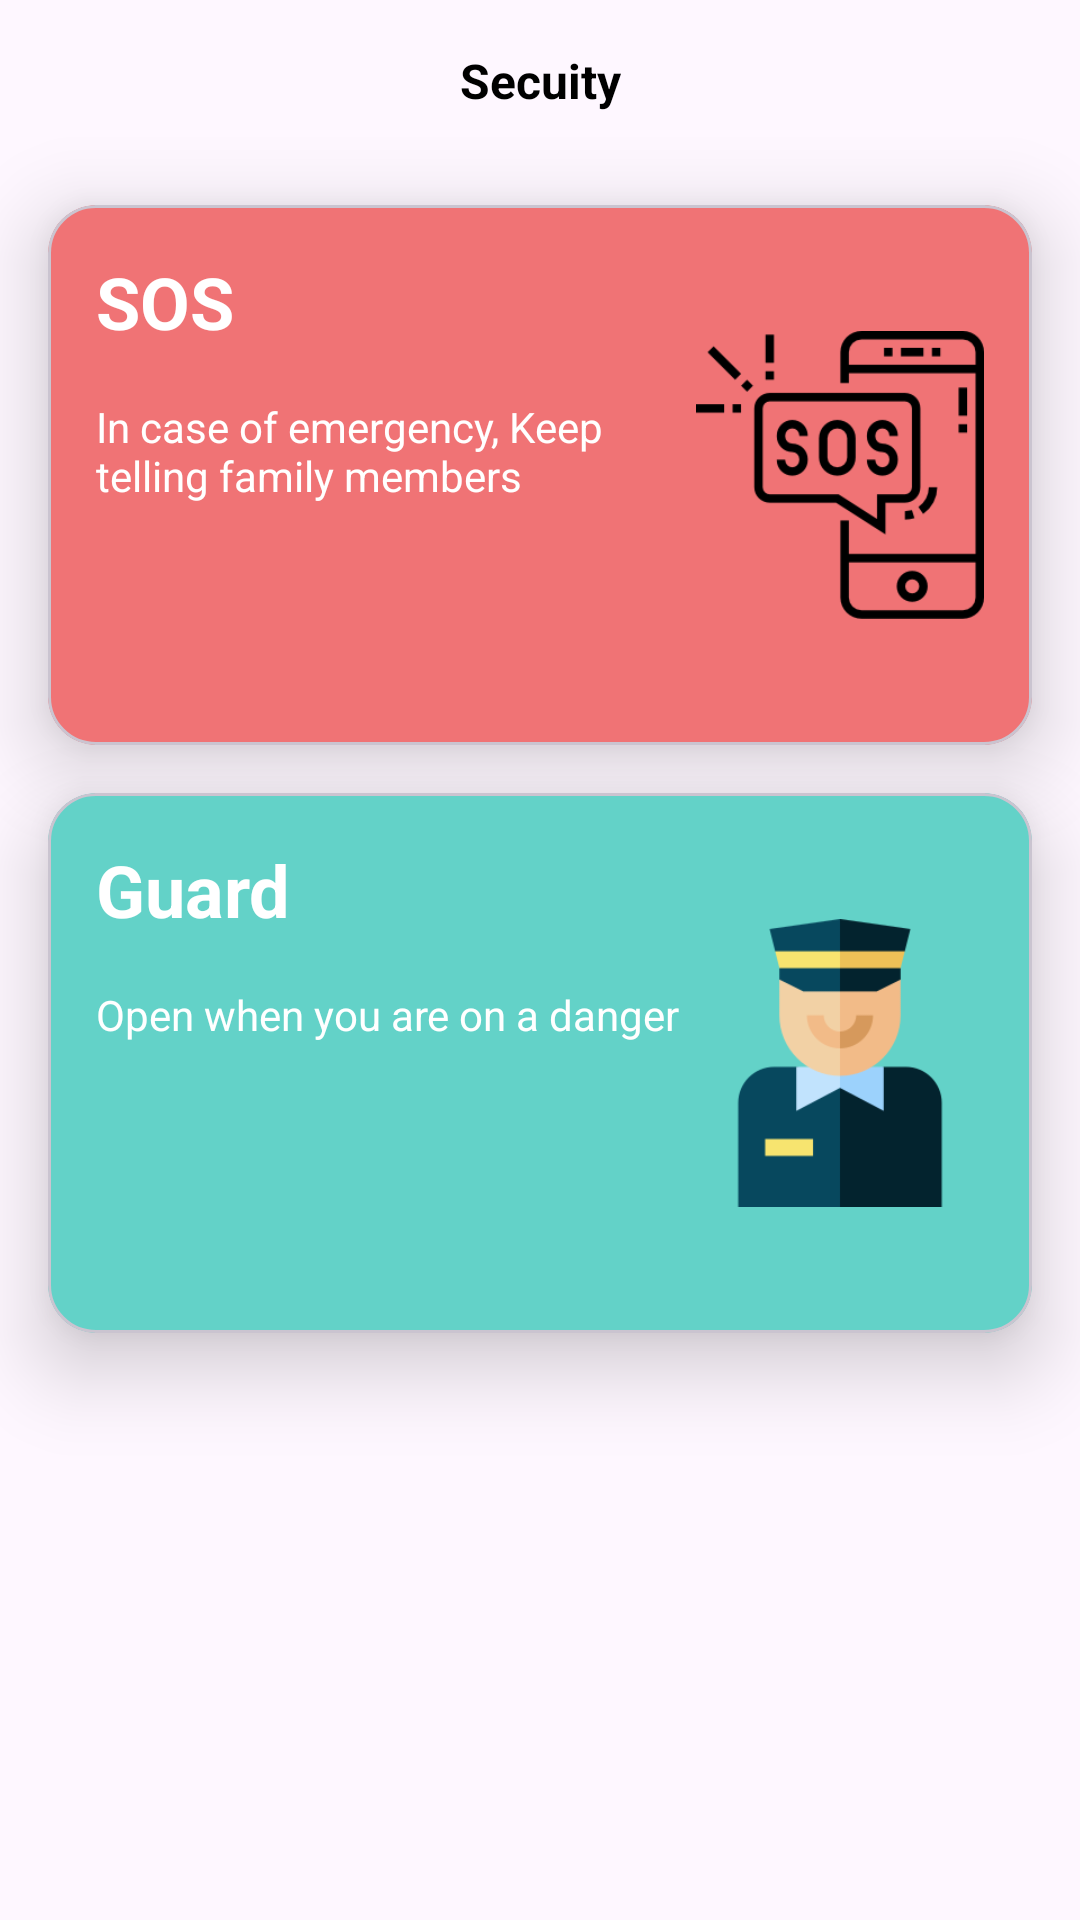

Point at icon controls on the screen. Image size 1080 x 1920, points as (x,y).
guard: (840,1063)
